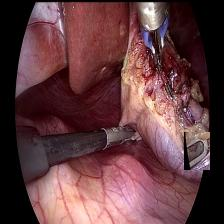Bipolar: (136, 10, 171, 70)
Grasper: (183, 131, 209, 169), (98, 124, 138, 148)
